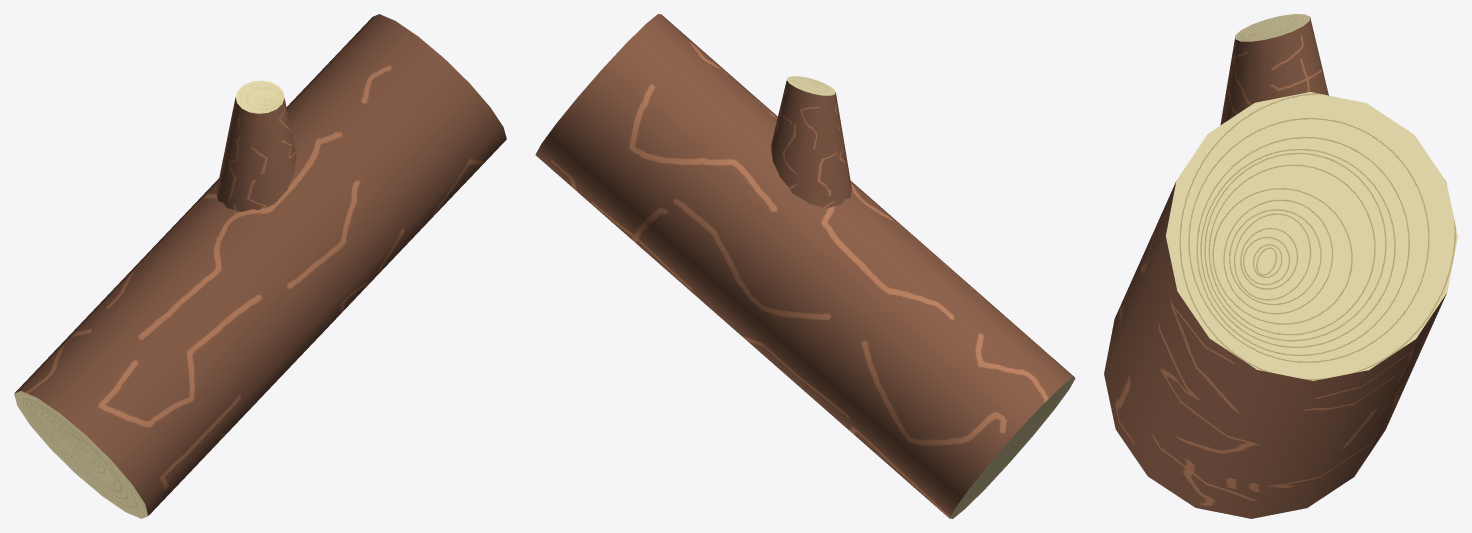
Rendered from wood.fbx.
The picture shows the model from 3 angles, left to right: view 1: azimuth 30°, elevation 25°; view 2: azimuth 150°, elevation 25°; view 3: azimuth 270°, elevation 25°; orthographic projection. The views are drawn at different scales.
Parts seen in each view (by area): view 1: pCylinder3; view 2: pCylinder3; view 3: pCylinder3.
Part boxes in pixels (x1,y1,x2,y2): pCylinder3: [14, 14, 506, 518]; pCylinder3: [535, 14, 1075, 518]; pCylinder3: [1104, 14, 1457, 518].
Size of the model in its own units: 0.7772 by 0.6477 by 0.3185.
Materials: 1 (1 with a texture image).
